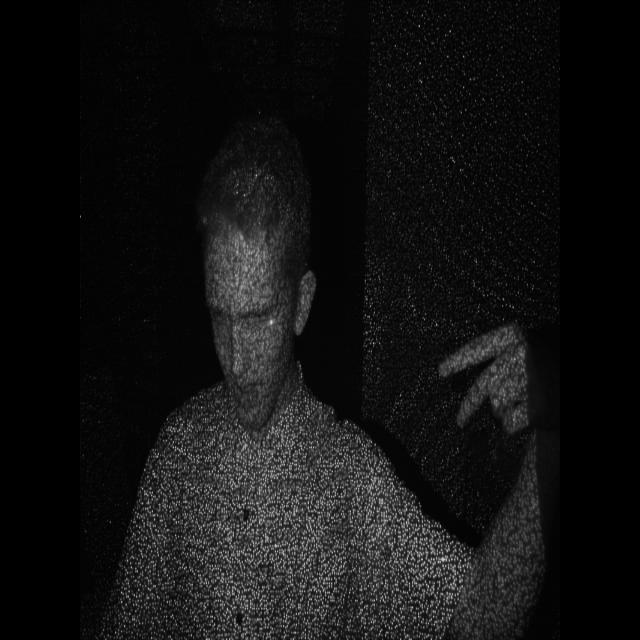P: (433, 305, 532, 466)
